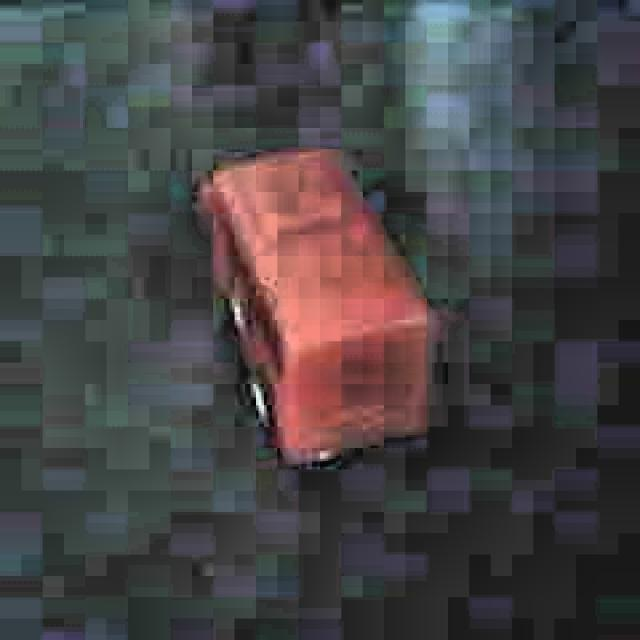bus: (196, 141, 435, 473)
